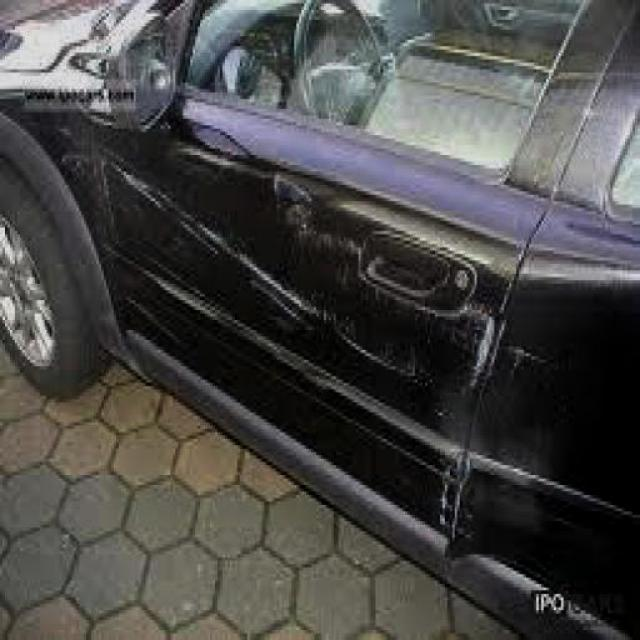car damage: (56, 112, 558, 416)
